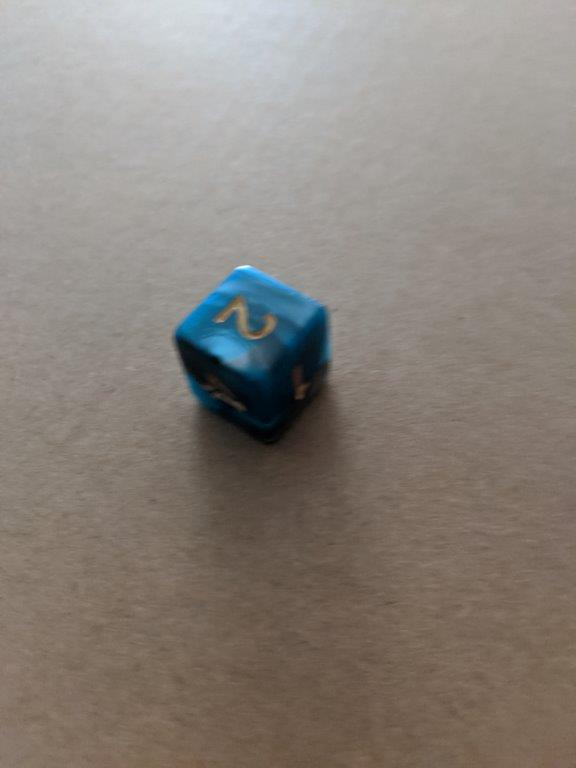d6-2: (171, 262, 331, 446)
